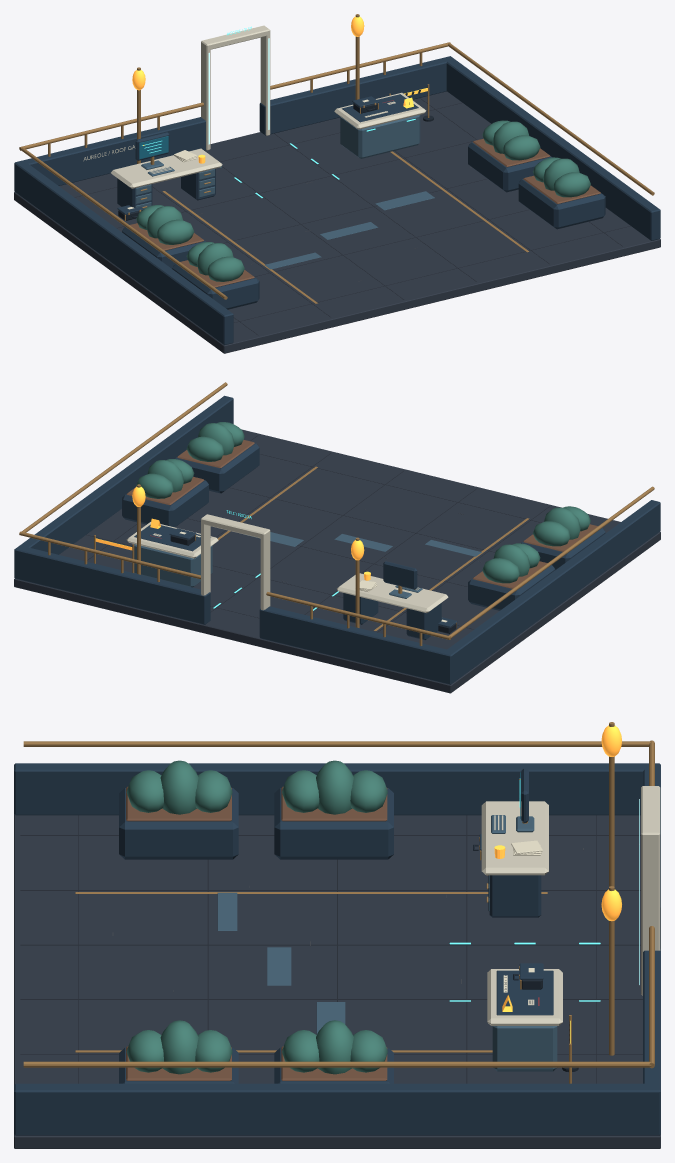
File: balcony.glb
3 renders of one model, top to bottom at view 1: azimuth 30°, elevation 25°; view 2: azimuth 150°, elevation 25°; view 3: azimuth 270°, elevation 25°, orthographic. The views are drawn at different scales.
Visible parts, largest first — view 1: balcony_architecture; view 2: balcony_architecture; view 3: balcony_architecture.
Part boxes in pixels (bbox=[...]): balcony_architecture: bbox=[14, 14, 660, 353]; balcony_architecture: bbox=[14, 382, 660, 693]; balcony_architecture: bbox=[14, 722, 660, 1148].
Bounding box in the file's own units: 12 × 3.21 × 10.
